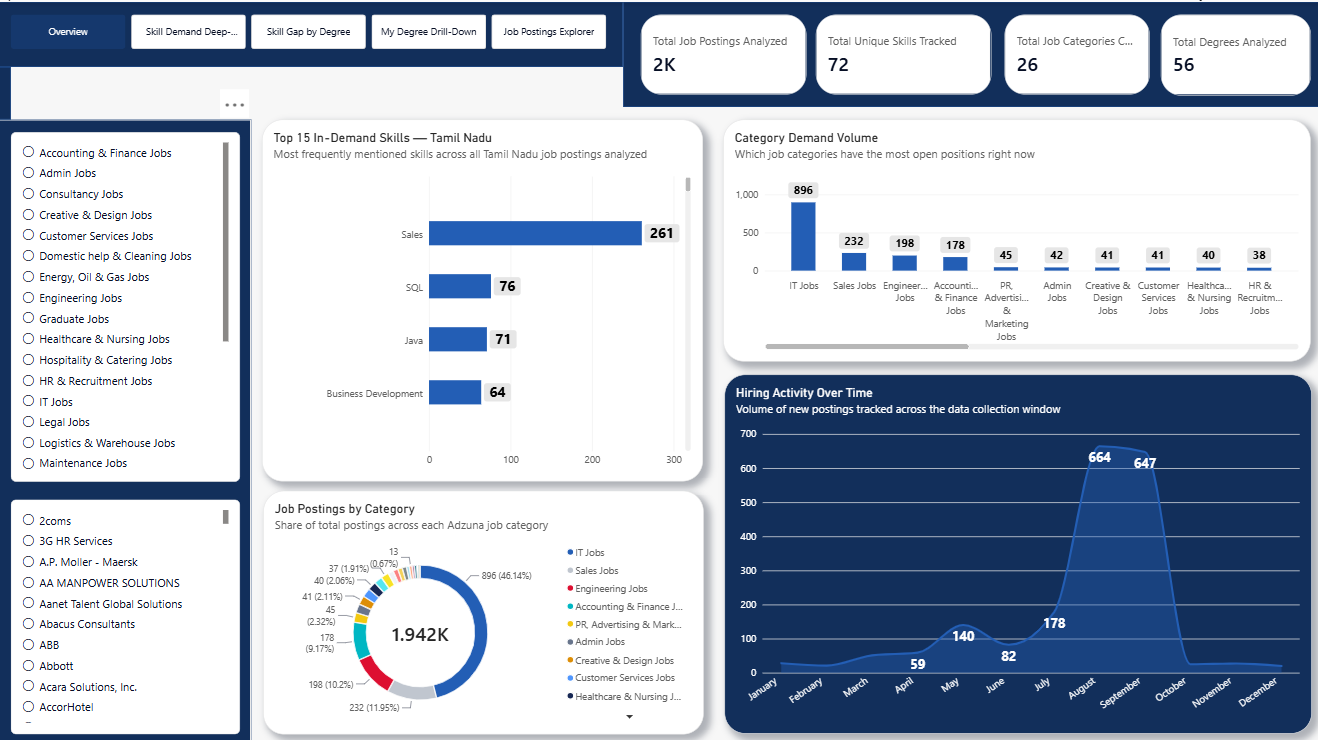

Layout of this report page (visuals, bound fields, positions):
{"tool":"powerbi","page":{"name":"Overview","canvas":[1920,1080],"ordinal":0},"visuals":[{"type":"shape","box":[906,0,1014,152],"z":1500},{"type":"shape","box":[0,0,906,94],"z":2000},{"type":"shape","box":[0,170,368,910],"z":3000},{"type":"cardVisual","fields":{"Data":["_Measure.Total Job Postings Analyzed"]},"box":[932,18,240,116],"z":4000},{"type":"cardVisual","fields":{"Data":["_Measure.Total Job Categories Covered"]},"box":[1458,18,210,116],"z":5000},{"type":"cardVisual","fields":{"Data":["_Measure.Total Degrees Analyzed"]},"box":[1685,17.5,217.5,117.5],"z":6000},{"type":"cardVisual","fields":{"Data":["_Measure.Total Unique Skills Tracked"]},"box":[1186,18,254,116],"z":7000},{"type":"clusteredBarChart","title":"Top 15 In-Demand Skills — Tamil Nadu","fields":{"Category":["skill_demand_summary.skill"],"Y":["Sum(skill_demand_summary.posting_count)"]},"box":[384,170,638,524],"z":8000},{"type":"donutChart","title":"\tJob Postings by Category","fields":{"Category":["job_postings_detail.category"],"Y":["CountNonNull(job_postings_detail.title)"]},"box":[385,707.5,637.5,352.5],"z":9000},{"type":"clusteredColumnChart","title":"Category Demand Volume","fields":{"Y":["CountNonNull(job_postings_detail.title)"],"Category":["job_postings_detail.category"]},"box":[1052,170,850,350],"z":10000},{"type":"stackedAreaChart","title":"Hiring Activity Over Time","fields":{"Category":["job_postings_detail.created.Variation.Date Hierarchy.Month","job_postings_detail.created.Variation.Date Hierarchy.Day"],"Y":["CountNonNull(job_postings_detail.title)"]},"box":[1052.5,540,850,520],"z":11000},{"type":"pageNavigator","box":[20,18,866,50],"z":12000},{"type":"listSlicer","fields":{"Values":["job_postings_detail.category"]},"box":[20,188,332,506],"z":13000},{"type":"listSlicer","fields":{"Values":["job_postings_detail.company"]},"box":[20,720,332,340],"z":14000},{"type":"shape","box":[0,94,20,76],"z":15000}]}

Visuals, with their boxes on the page's 1920x1080 design canvas (x1, y1, x2, y2). These are canvas units, not pixel positions in the 1318x740 screenshot, which may show the page scaled, cropped or inside an application window:
shape: {"left": 906, "top": 0, "right": 1920, "bottom": 152}
shape: {"left": 0, "top": 0, "right": 906, "bottom": 94}
shape: {"left": 0, "top": 170, "right": 368, "bottom": 1080}
cardVisual - _Measure.Total Job Postings Analyzed: {"left": 932, "top": 18, "right": 1172, "bottom": 134}
cardVisual - _Measure.Total Job Categories Covered: {"left": 1458, "top": 18, "right": 1668, "bottom": 134}
cardVisual - _Measure.Total Degrees Analyzed: {"left": 1685, "top": 18, "right": 1902, "bottom": 135}
cardVisual - _Measure.Total Unique Skills Tracked: {"left": 1186, "top": 18, "right": 1440, "bottom": 134}
"Top 15 In-Demand Skills — Tamil Nadu" clusteredBarChart: {"left": 384, "top": 170, "right": 1022, "bottom": 694}
"	Job Postings by Category" donutChart: {"left": 385, "top": 708, "right": 1022, "bottom": 1060}
"Category Demand Volume" clusteredColumnChart: {"left": 1052, "top": 170, "right": 1902, "bottom": 520}
"Hiring Activity Over Time" stackedAreaChart: {"left": 1052, "top": 540, "right": 1902, "bottom": 1060}
pageNavigator: {"left": 20, "top": 18, "right": 886, "bottom": 68}
listSlicer - job_postings_detail.category: {"left": 20, "top": 188, "right": 352, "bottom": 694}
listSlicer - job_postings_detail.company: {"left": 20, "top": 720, "right": 352, "bottom": 1060}
shape: {"left": 0, "top": 94, "right": 20, "bottom": 170}
